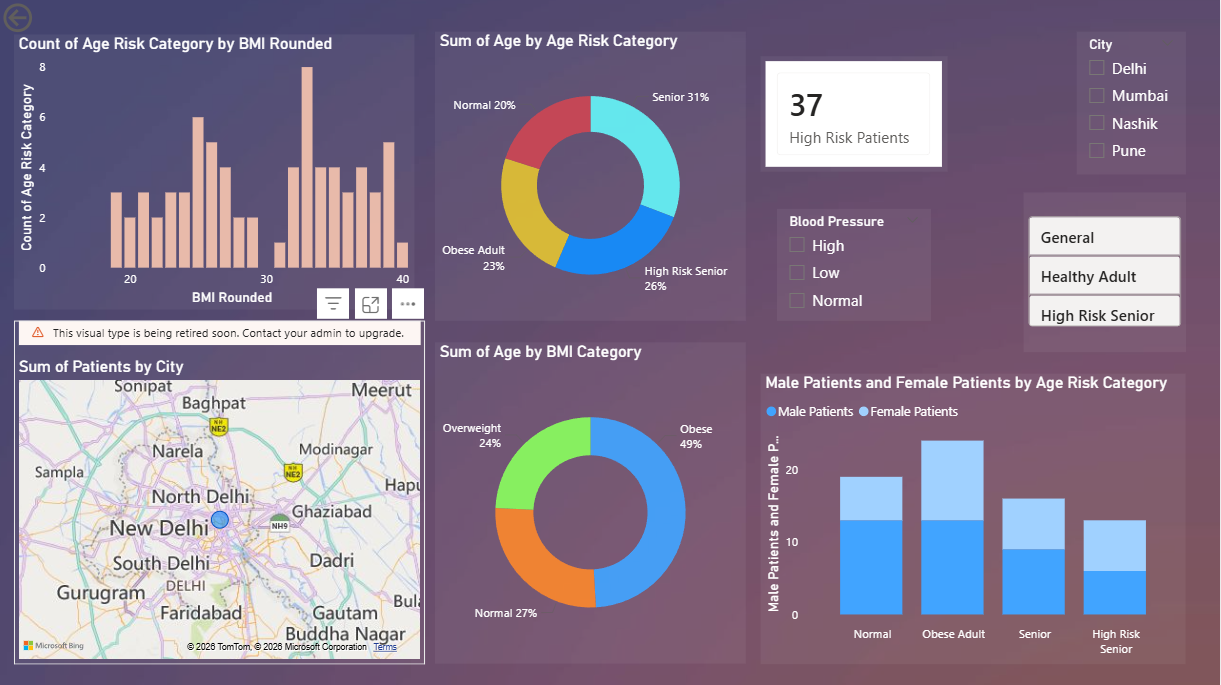

This screenshot's page, from the dashboard's own definition file:
{"tool":"powerbi","page":{"name":"Page 2","canvas":[1280,720],"ordinal":1},"visuals":[{"type":"lineStackedColumnComboChart","fields":{"Y":["CountNonNull(healthcare_disease_prediction_dataset.Age Risk Category)"],"Category":["healthcare_disease_prediction_dataset.BMI Rounded"]},"box":[15.7,37.1,420,288.6],"z":0},{"type":"columnChart","fields":{"Category":["healthcare_disease_prediction_dataset.Age Risk Category"],"Y":["Calendar.Male Patients","Calendar.Female Patients"]},"box":[798.6,392.9,445.7,304.3],"z":1000},{"type":"donutChart","fields":{"Category":["healthcare_disease_prediction_dataset.Age Risk Category"],"Y":["Sum(healthcare_disease_prediction_dataset.Age)"]},"box":[457.1,34.3,325.7,302.9],"z":2000},{"type":"donutChart","fields":{"Y":["Sum(healthcare_disease_prediction_dataset.Age)"],"Category":["healthcare_disease_prediction_dataset.BMI Category"]},"box":[457.1,360,325.7,337.1],"z":3000},{"type":"cardVisual","fields":{"Data":["Calendar.High Risk Patients"]},"box":[798.6,60,195.7,121.4],"z":5000},{"type":"slicer","fields":{"Values":["healthcare_disease_prediction_dataset.City"]},"box":[1130,34.3,114.3,150],"z":6000},{"type":"actionButton","box":[0,0,100,40],"z":7000},{"type":"slicer","fields":{"Values":["healthcare_disease_prediction_dataset.Blood Pressure"]},"box":[815.7,220,161.4,117.1],"z":8000},{"type":"cardVisual","fields":{"Rows":["healthcare_disease_prediction_dataset.Patient Category"]},"box":[1074.3,202.9,170,167.1],"z":9000},{"type":"map","fields":{"Category":["healthcare_disease_prediction_dataset.City"],"Y":["Calendar.Total Patients"]},"box":[16,360,420,337],"z":9001}]}

Visuals, with their boxes in screenshot pixels (x1, y1, x2, y2), scaled from the page's 1280x720 canvas onto the 1221x685 screenshot:
lineStackedColumnComboChart - CountNonNull(healthcare_disease_prediction_dataset.Age Risk Category) x healthcare_disease_prediction_dataset.BMI Rounded: crop(15, 35, 416, 310)
columnChart - healthcare_disease_prediction_dataset.Age Risk Category x Calendar.Male Patients: crop(762, 374, 1187, 663)
donutChart - healthcare_disease_prediction_dataset.Age Risk Category x Sum(healthcare_disease_prediction_dataset.Age): crop(436, 33, 747, 321)
donutChart - Sum(healthcare_disease_prediction_dataset.Age) x healthcare_disease_prediction_dataset.BMI Category: crop(436, 342, 747, 663)
cardVisual - Calendar.High Risk Patients: crop(762, 57, 948, 173)
slicer - healthcare_disease_prediction_dataset.City: crop(1078, 33, 1187, 175)
actionButton: crop(0, 0, 95, 38)
slicer - healthcare_disease_prediction_dataset.Blood Pressure: crop(778, 209, 932, 321)
cardVisual - healthcare_disease_prediction_dataset.Patient Category: crop(1025, 193, 1187, 352)
map - healthcare_disease_prediction_dataset.City x Calendar.Total Patients: crop(15, 342, 416, 663)
